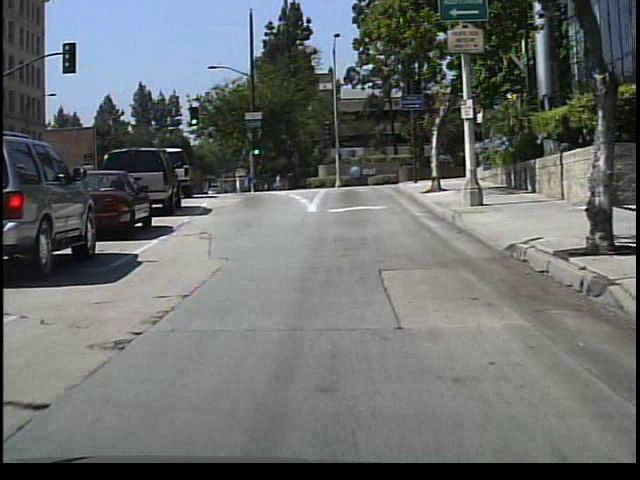person: (240, 168, 256, 195), (270, 169, 286, 194)
